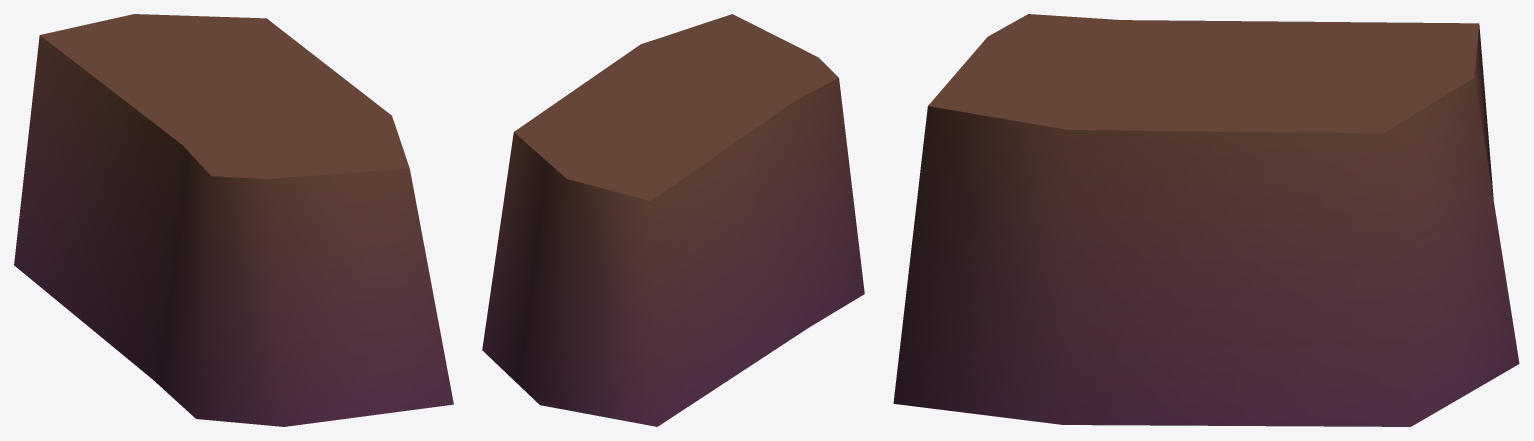
3 views of the same model, side by side, from view 1: azimuth 30°, elevation 25°; view 2: azimuth 150°, elevation 25°; view 3: azimuth 270°, elevation 25° (orthographic). The views are drawn at different scales.
Visible parts, largest first — view 1: Cube.095; view 2: Cube.095; view 3: Cube.095.
Part boxes in pixels (x1,y1,x2,y2): Cube.095: (14,14,453,426); Cube.095: (482,14,864,426); Cube.095: (893,14,1519,426).
Bounding box in the file's own units: 5.21 × 4.69 × 9.49.
